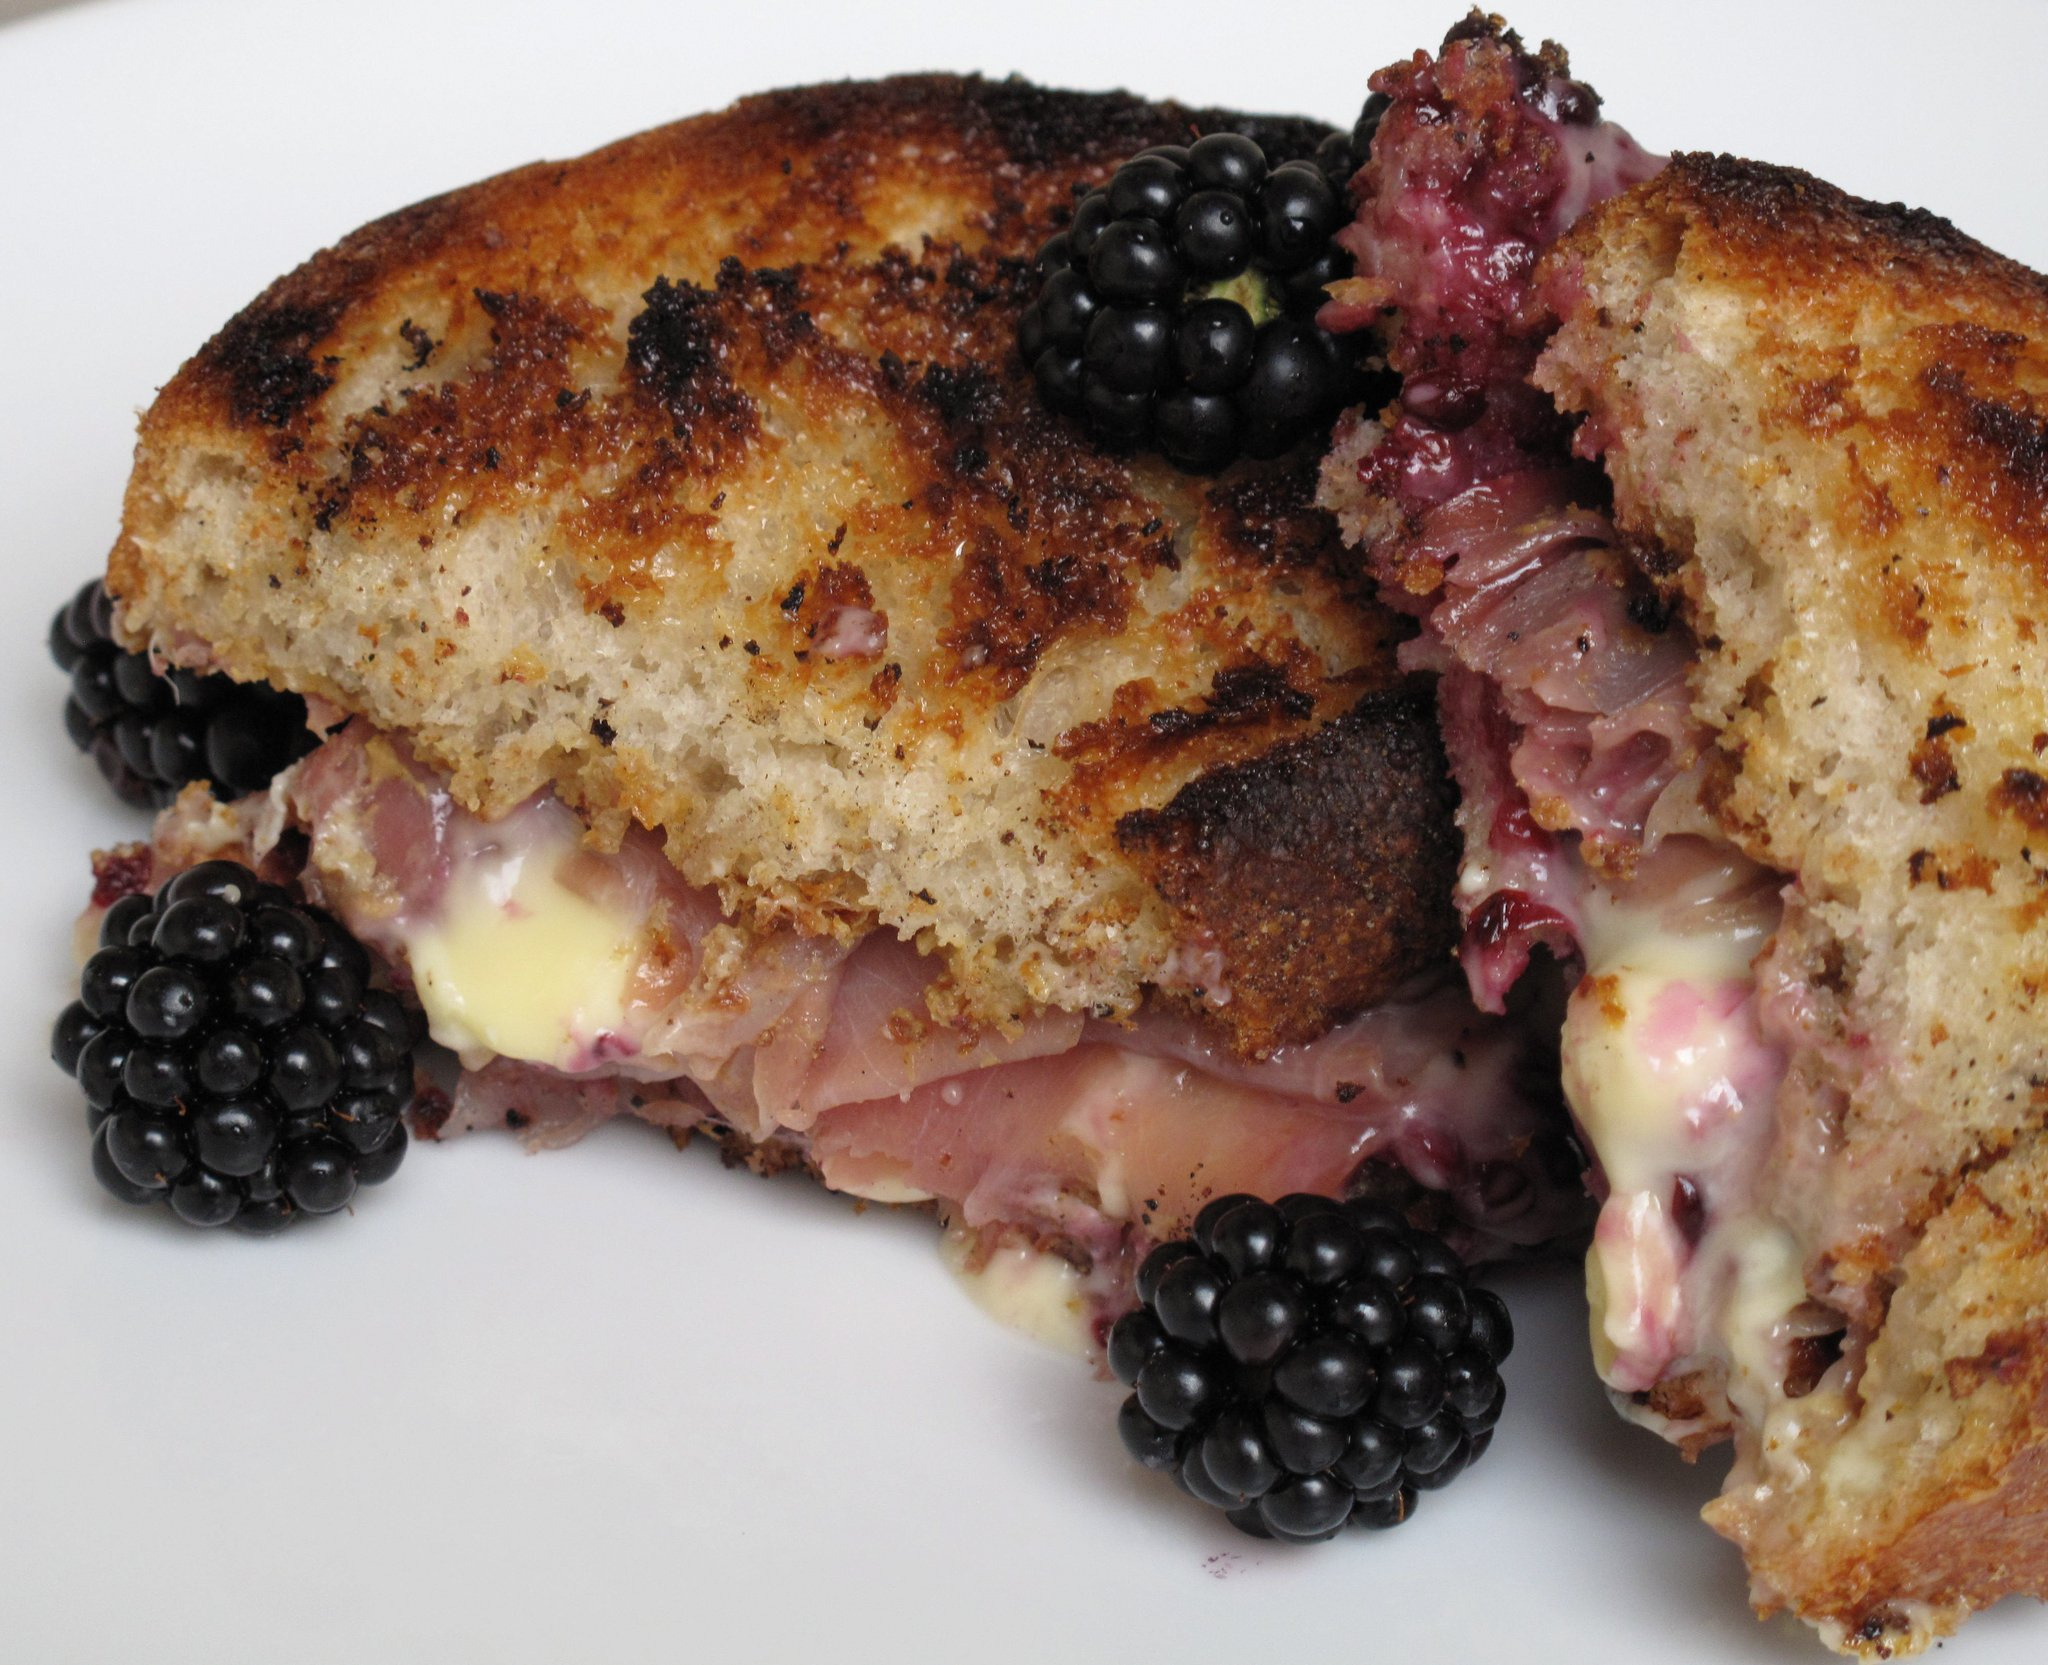slice of bread: (267, 211, 1212, 911), (1661, 248, 2048, 1524)
